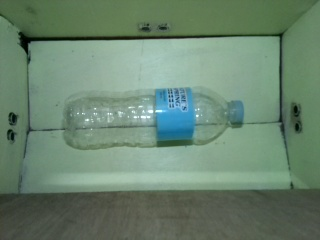bottle: (62, 85, 248, 149)
